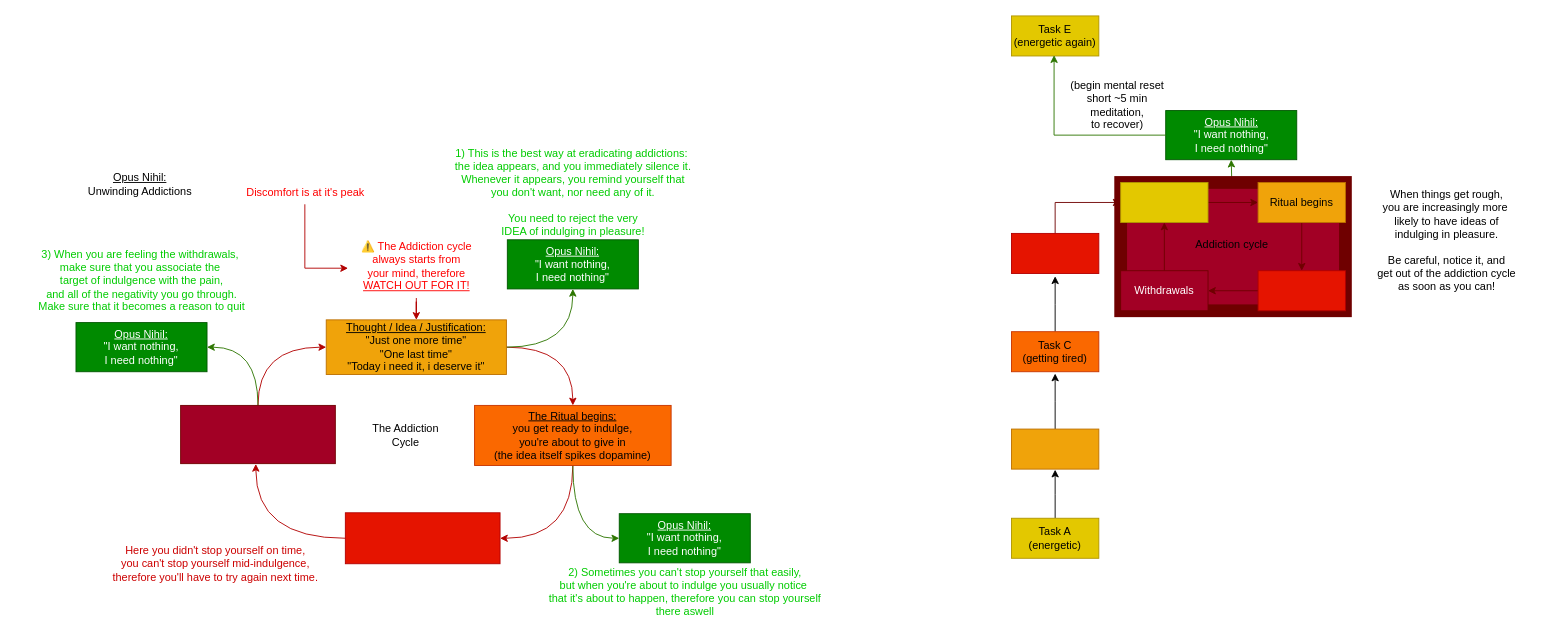
The diagram is 1550 pixels wide and 640 high, and some of its shapes have lost their labels. Each missing label, with the box of its shape:
Idea of indulging: (1120, 182, 1208, 222)
Indulge in pleasure: (1257, 270, 1345, 311)
Indulgence: You start to indulge, (spiking dopamine): (344, 512, 500, 564)
Task B (in the flow): (1011, 428, 1099, 469)
Task D (getting exhausted): (1011, 233, 1099, 273)
Withdrawals: You feel bad after some time, (shame, pain, depression, etc): (180, 404, 335, 464)
